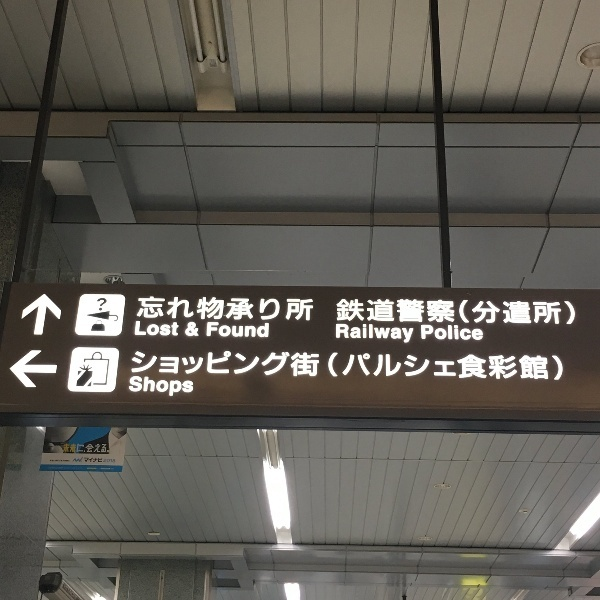text: (145, 351, 160, 381), (161, 351, 176, 381), (177, 351, 192, 381), (193, 351, 208, 381), (209, 351, 224, 381), (225, 351, 240, 381), (241, 351, 256, 381), (257, 351, 272, 381), (273, 351, 288, 381), (289, 351, 304, 381), (305, 351, 320, 381), (321, 351, 336, 381), (337, 351, 352, 381), (353, 351, 368, 381), (369, 351, 384, 381), (385, 351, 400, 381), (401, 351, 416, 381), (417, 351, 432, 381), (433, 351, 448, 381), (449, 351, 464, 381), (465, 351, 480, 381), (481, 351, 496, 381), (497, 351, 512, 381), (513, 351, 528, 381), (529, 351, 544, 381), (545, 351, 560, 381), (337, 299, 352, 325), (353, 299, 368, 325), (369, 299, 384, 325), (385, 299, 400, 325), (401, 299, 416, 325), (417, 299, 432, 325), (433, 299, 448, 325), (449, 299, 464, 325), (465, 299, 480, 325), (481, 299, 496, 325), (497, 299, 512, 325), (513, 299, 528, 325), (529, 299, 544, 325), (545, 299, 560, 325), (561, 299, 576, 325), (145, 297, 160, 322), (161, 297, 176, 322), (177, 297, 192, 322), (193, 297, 208, 322), (209, 297, 224, 322), (225, 297, 240, 322), (241, 297, 256, 322), (257, 297, 272, 322), (273, 297, 288, 322), (289, 297, 304, 322), (145, 376, 160, 399), (161, 376, 176, 399), (177, 376, 192, 399), (130, 376, 144, 399), (337, 324, 352, 345), (353, 324, 368, 345), (369, 324, 384, 345), (385, 324, 400, 345), (134, 351, 144, 381), (433, 324, 448, 344), (449, 324, 464, 344), (465, 324, 480, 344), (401, 324, 415, 345), (65, 583, 80, 600), (209, 322, 224, 338), (225, 322, 240, 338), (241, 322, 256, 338), (305, 297, 314, 322), (145, 322, 160, 337), (161, 322, 176, 337), (421, 324, 432, 344), (257, 322, 270, 338), (65, 443, 80, 453), (81, 443, 96, 453), (139, 297, 144, 322), (561, 351, 565, 381), (136, 322, 144, 337), (97, 443, 107, 453), (186, 322, 192, 337), (193, 322, 199, 337), (84, 458, 96, 463), (481, 324, 484, 344), (177, 322, 180, 337), (49, 467, 64, 470), (65, 467, 80, 470), (104, 459, 112, 463), (97, 458, 103, 463), (50, 460, 64, 462), (193, 376, 194, 399), (101, 468, 112, 470), (335, 324, 336, 345), (76, 457, 80, 462), (81, 467, 87, 470), (87, 468, 96, 470), (113, 459, 116, 463), (65, 460, 70, 462), (81, 457, 83, 462), (113, 468, 114, 470)
